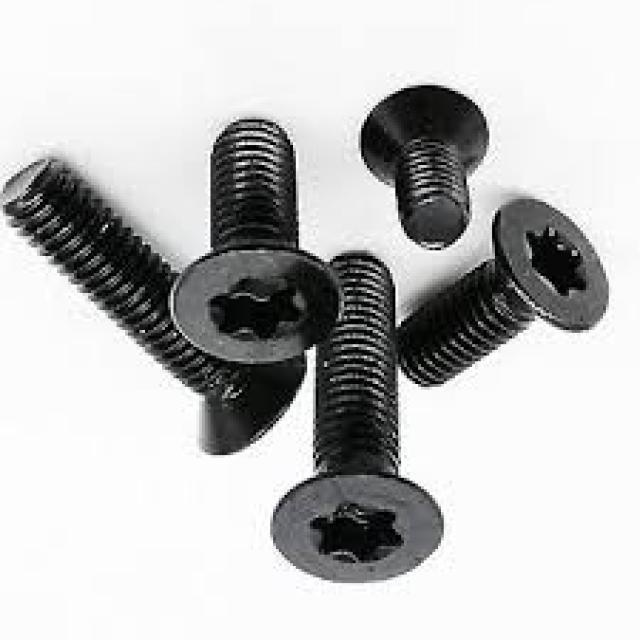torx: (171, 250, 346, 365), (268, 481, 448, 587), (493, 197, 612, 335)
